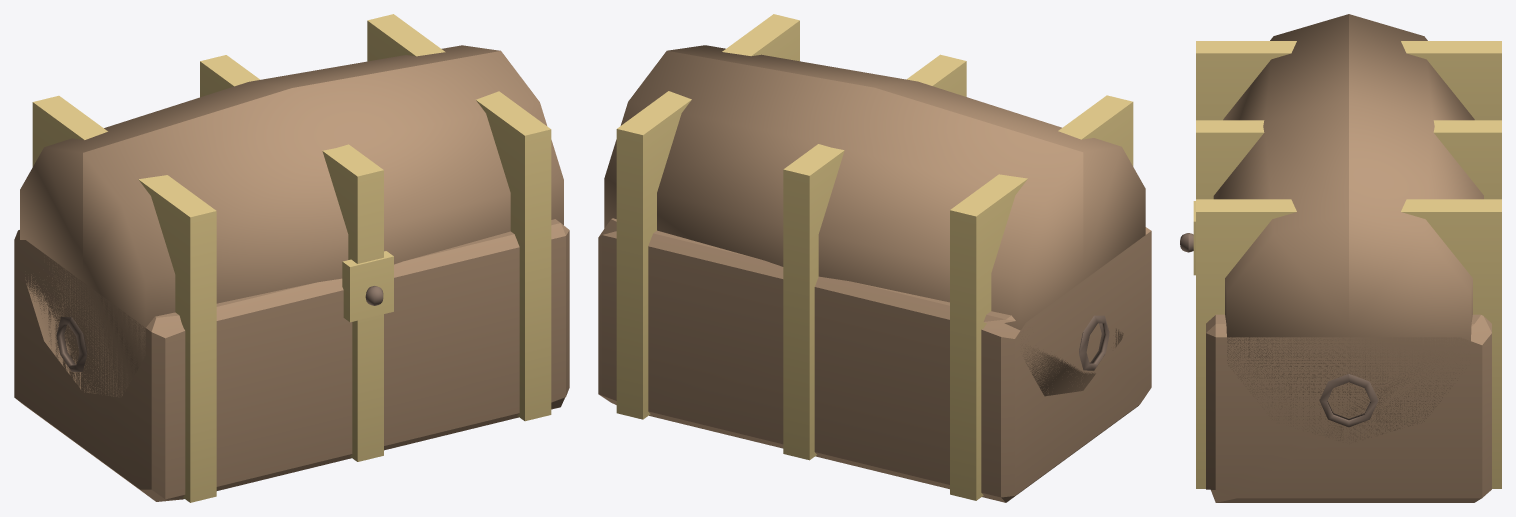
Rendered from kajuete_truhe.glb.
3 views of the same model, side by side, from view 1: azimuth 30°, elevation 25°; view 2: azimuth 150°, elevation 25°; view 3: azimuth 270°, elevation 25° (orthographic). The views are drawn at different scales.
Visible parts, largest first — view 1: G_kajuete_truhe; view 2: G_kajuete_truhe; view 3: G_kajuete_truhe.
Boxes of the visible parts, bbox=[...] form: G_kajuete_truhe: bbox=[14, 14, 569, 502]; G_kajuete_truhe: bbox=[598, 14, 1151, 502]; G_kajuete_truhe: bbox=[1180, 14, 1501, 502].
Bounding box in the file's own units: 1.02 × 0.69 × 0.6523.
